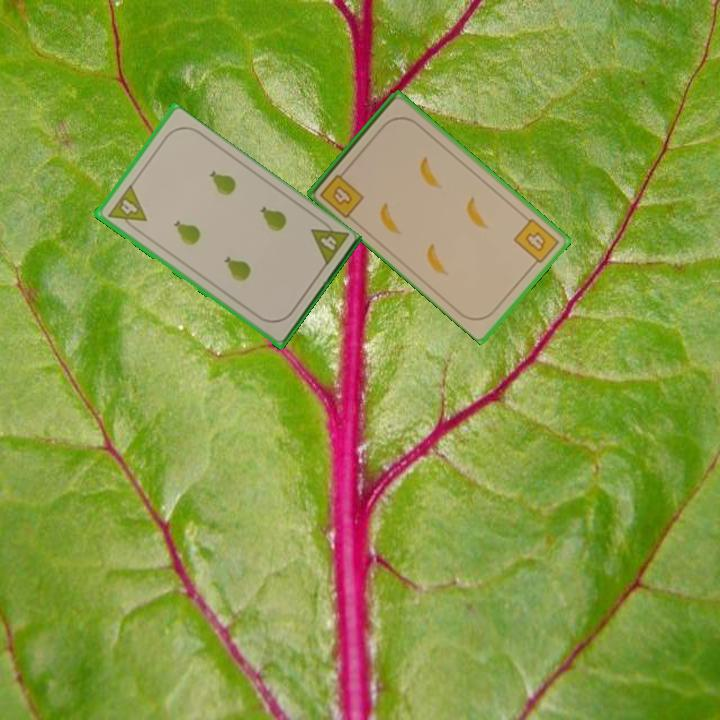4b: (510, 215, 562, 270), (316, 165, 367, 221)
4p: (306, 214, 351, 270), (104, 182, 149, 234)
